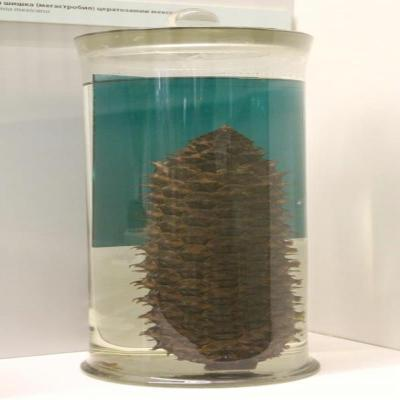natural_science_collection: (133, 126, 305, 372)
